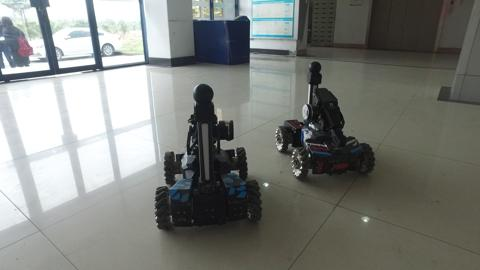chariot: (134, 73, 271, 240), (267, 55, 385, 185)
